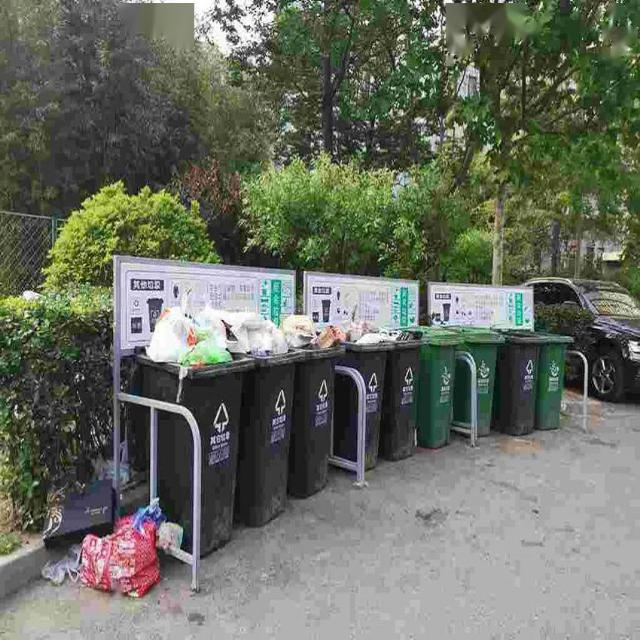garbage: (39, 457, 180, 596)
garbage_bin: (452, 324, 506, 437), (495, 326, 547, 434), (417, 326, 463, 448), (535, 331, 573, 429)
overflow: (132, 304, 254, 557), (234, 313, 307, 528), (287, 313, 345, 499), (334, 318, 394, 470), (380, 326, 424, 460)
